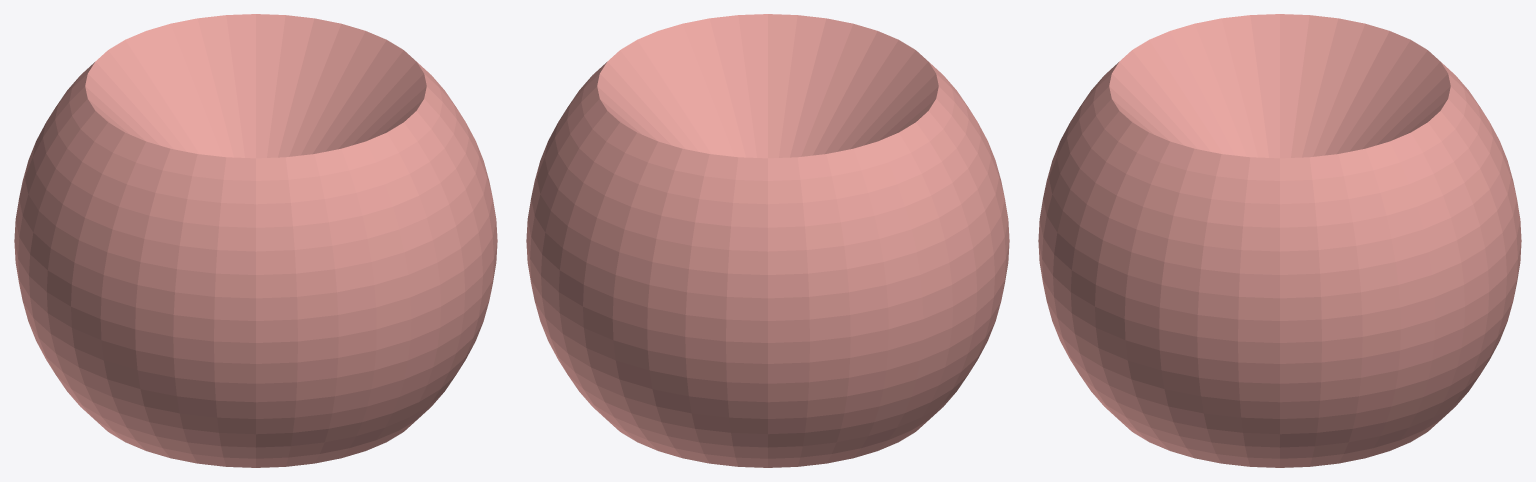
File: ouster_lidar_fov_360x90.glb
3 views of the same model, side by side, from view 1: azimuth 30°, elevation 25°; view 2: azimuth 150°, elevation 25°; view 3: azimuth 270°, elevation 25° (orthographic).
Parts seen in each view (by area): view 1: 원형; view 2: 원형; view 3: 원형.
Part boxes in pixels (box(x1,y1,x2,y2)): 원형: box(14, 14, 497, 467); 원형: box(526, 14, 1009, 467); 원형: box(1038, 14, 1521, 467).
Bounding box in the file's own units: 2 × 1.41 × 2.
